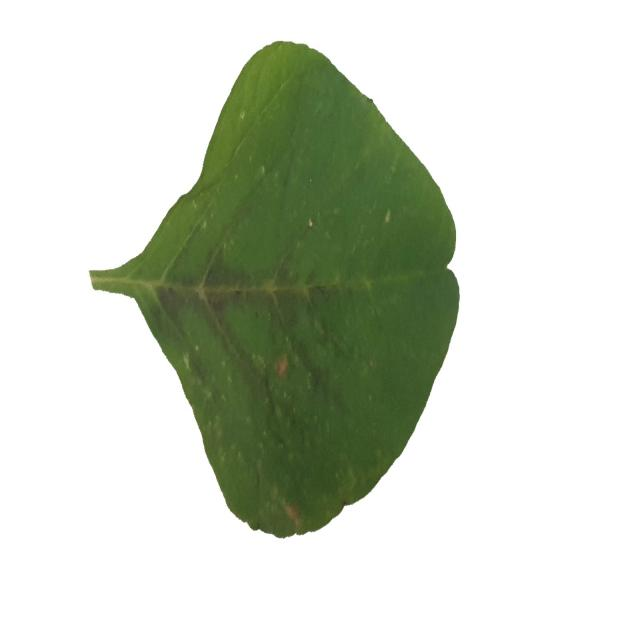Medicinal-Arive Dantu: (88, 39, 461, 543)
